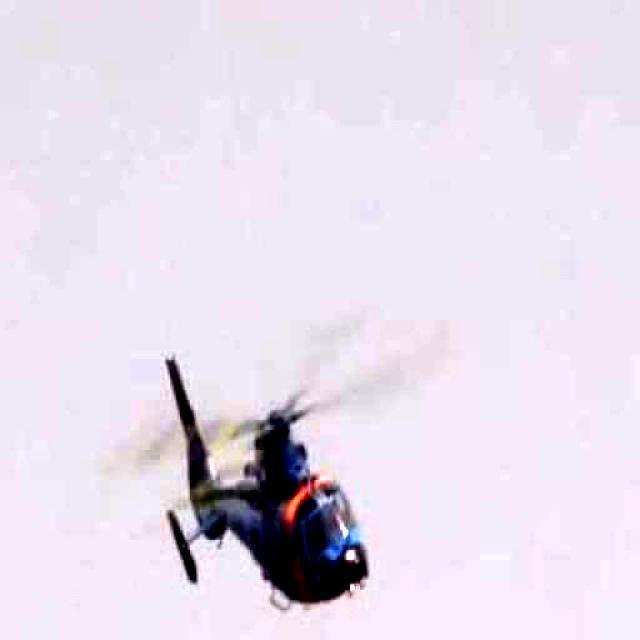drone: (52, 209, 540, 640)
